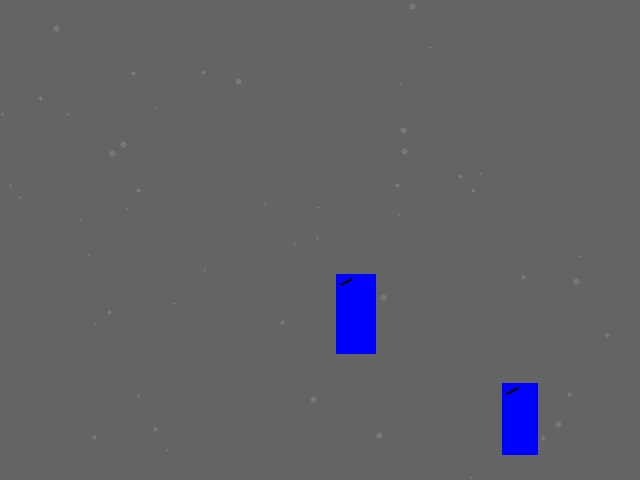motorcycle: (336, 274, 375, 353), (502, 383, 537, 454)
